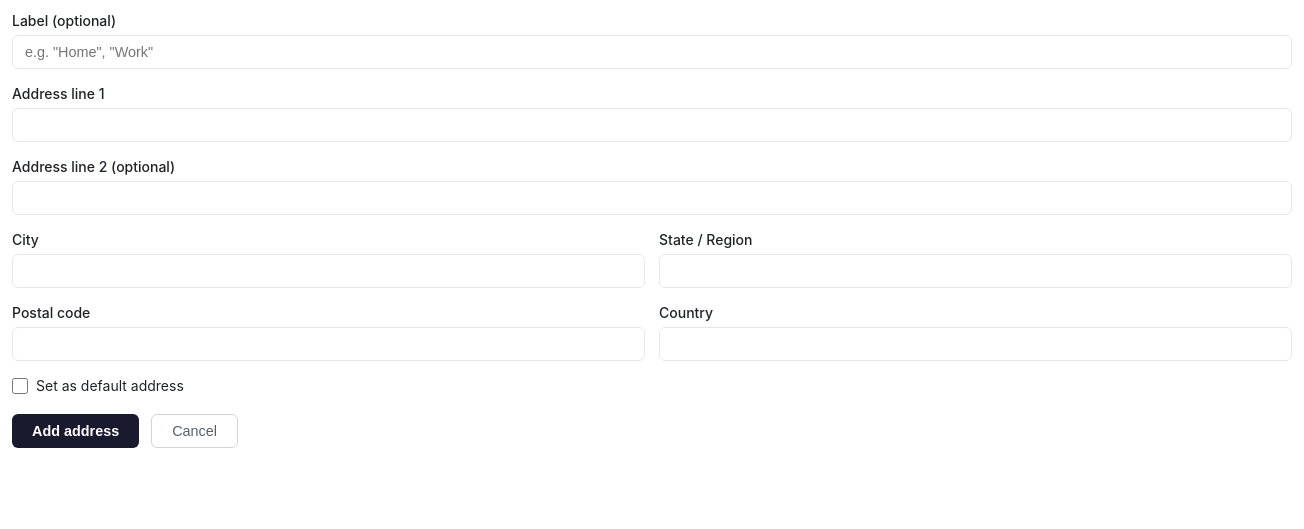
AddressForm validation › shows error when addressLine1 is blank
Click the button "Add address".
click(76, 431)  # box 12,414 -> 139,448
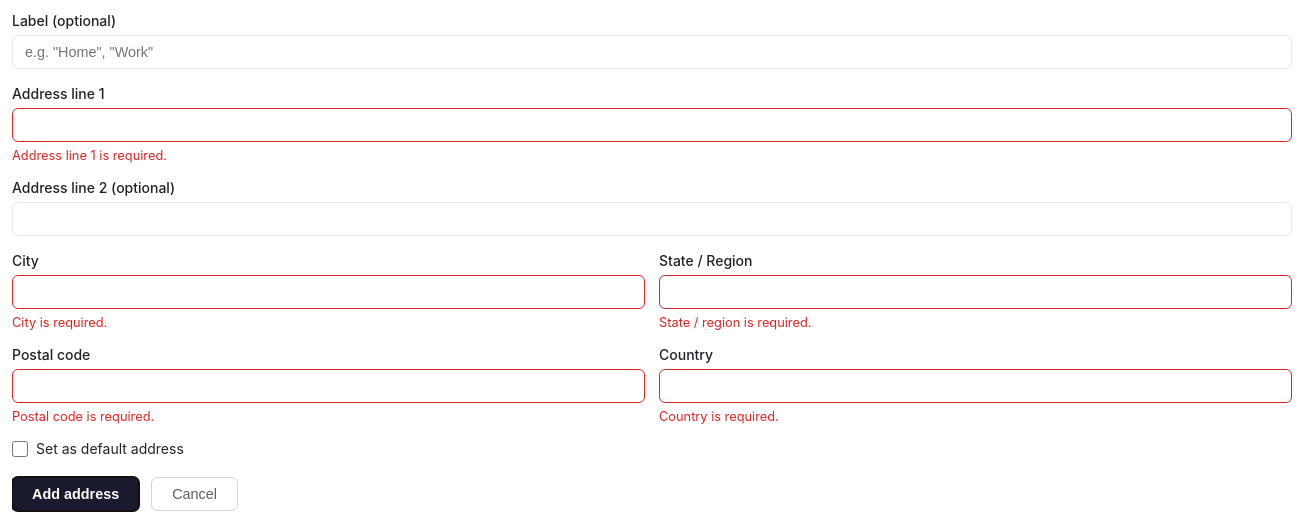
Result: the text "Address line 1 is required." is shown at 12,148 -> 167,163
